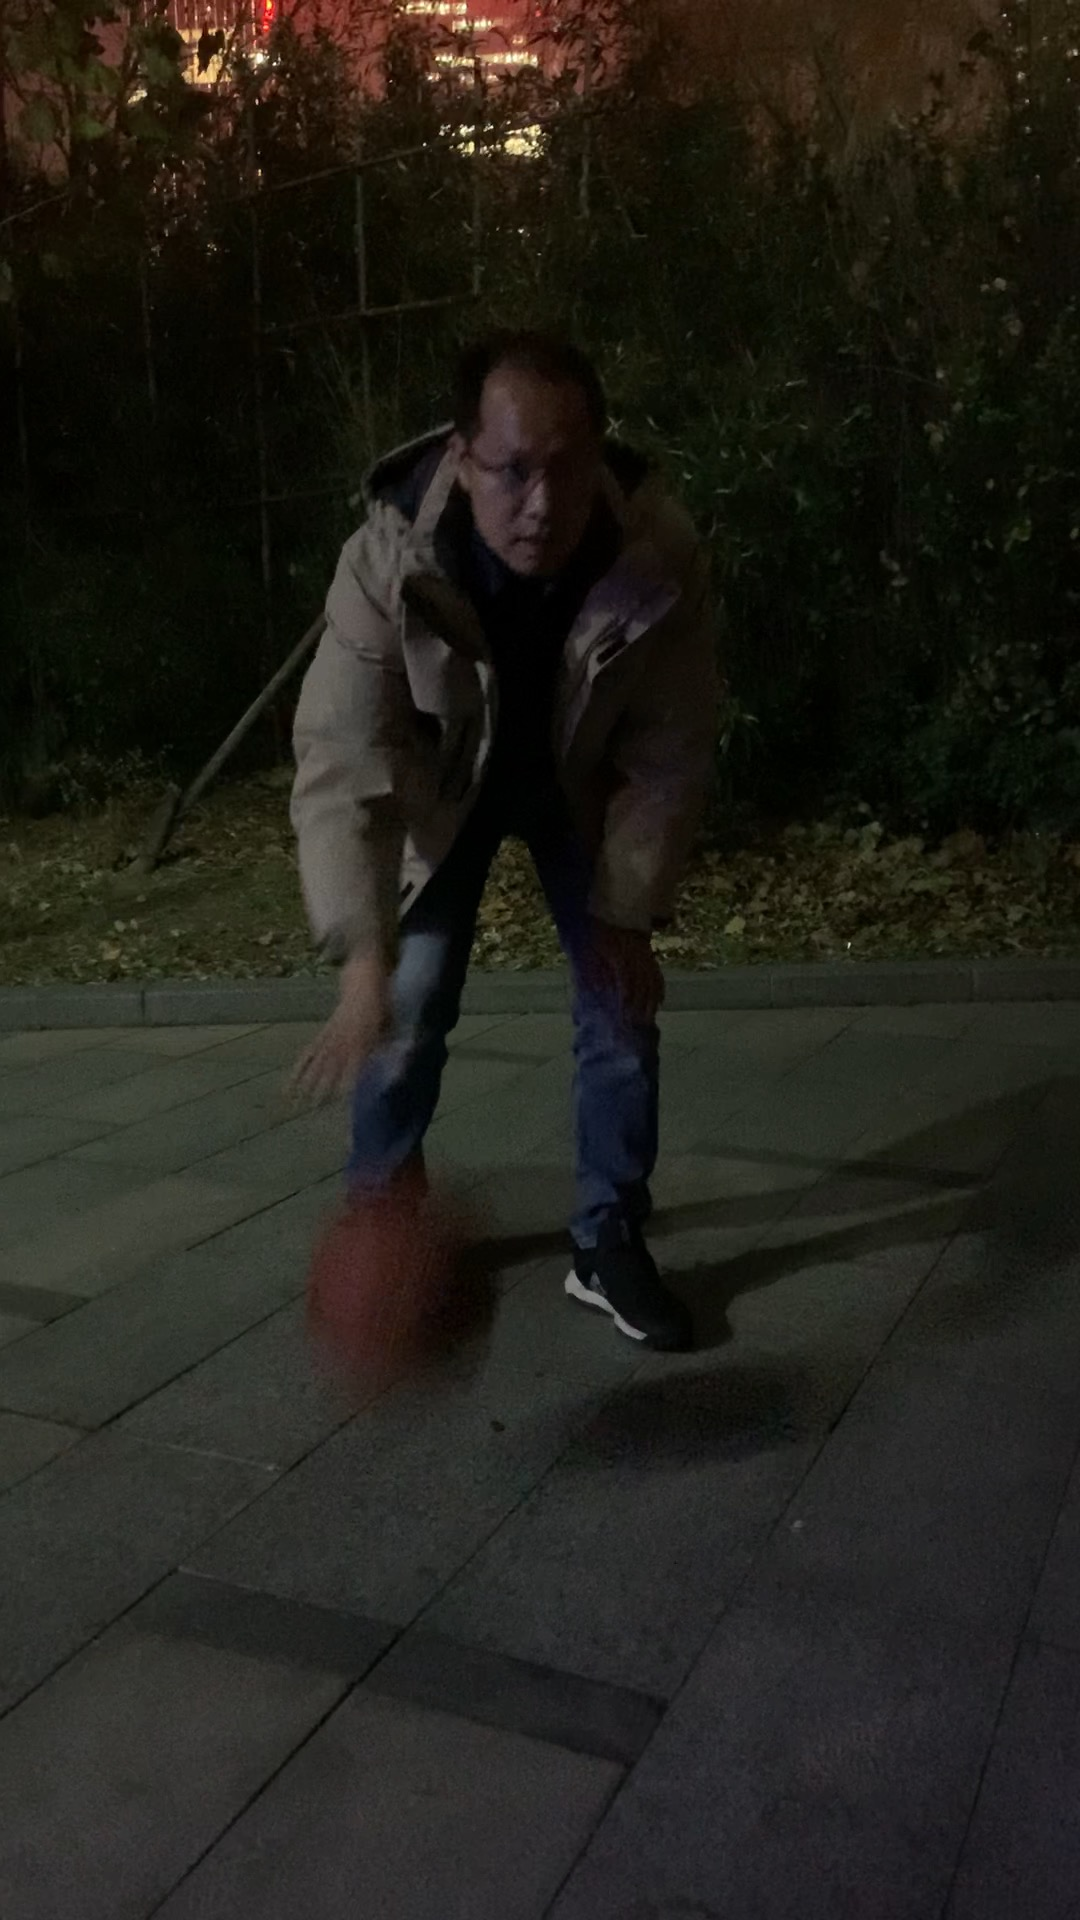ball: (307, 1192, 501, 1393)
